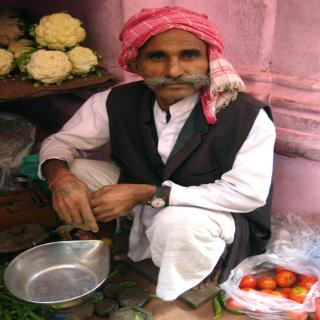tomato: (270, 272, 296, 291), (289, 285, 308, 301), (297, 275, 318, 289), (283, 309, 308, 320), (228, 296, 244, 312), (238, 274, 256, 287), (256, 278, 276, 288), (268, 291, 289, 299), (242, 286, 252, 292)
